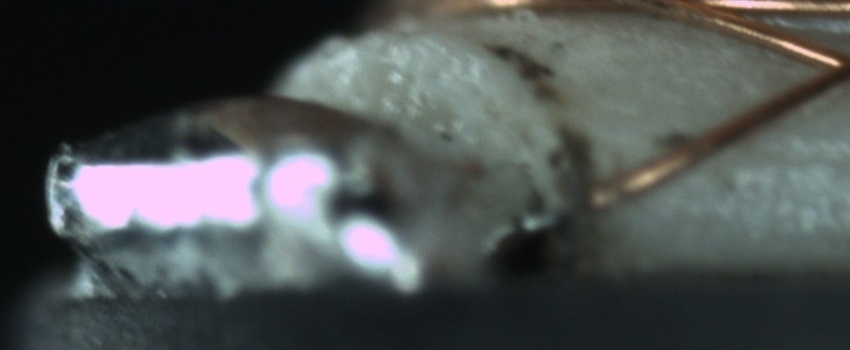CL: (799, 35, 850, 92)
DL: (706, 124, 849, 192)
